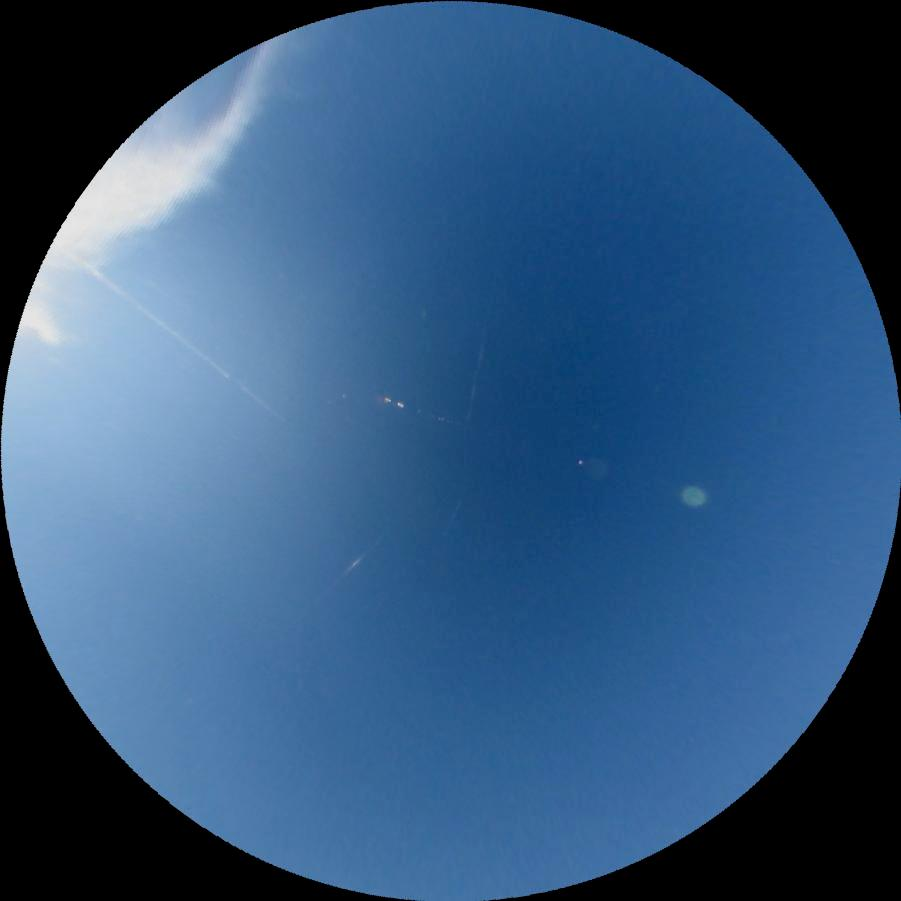parasite: (79, 259, 290, 426), (323, 530, 388, 593), (462, 315, 489, 435), (441, 491, 465, 539)
